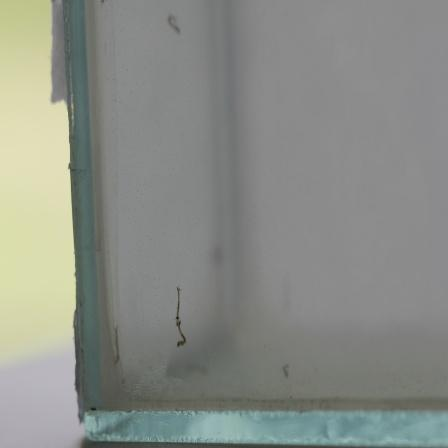Jentik-Nyamuk: (169, 282, 189, 352)
